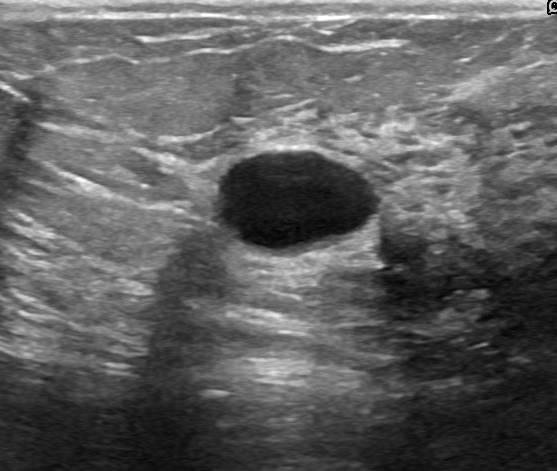Benign: (217, 144, 377, 248)
